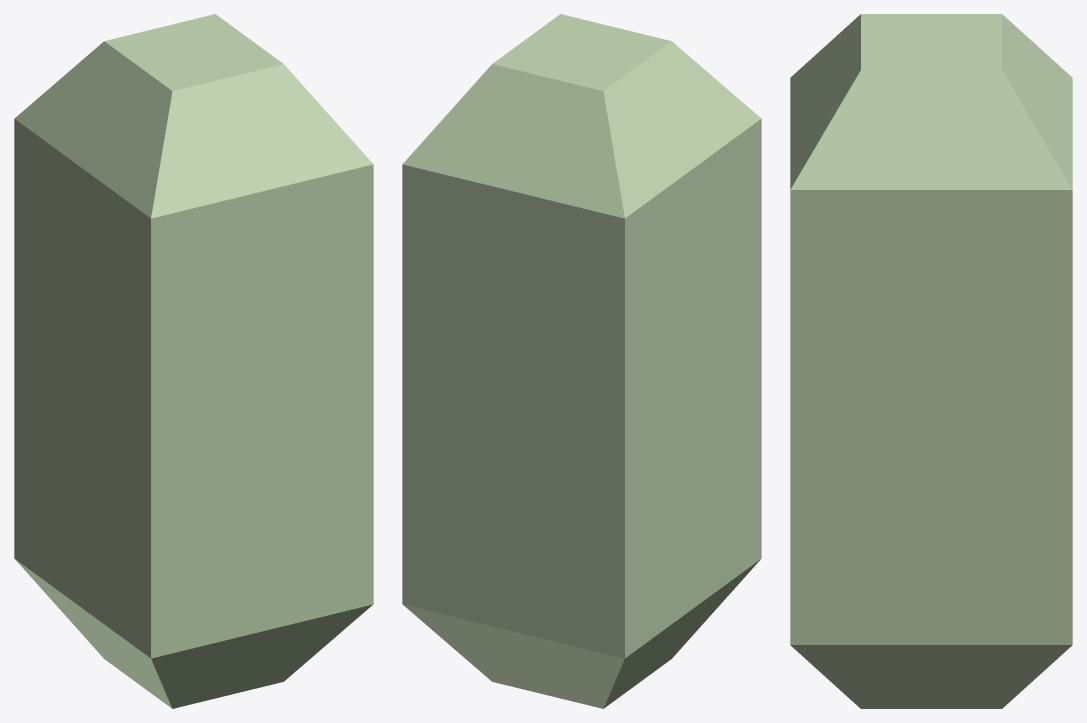
The model's file is SoldierMutant-UpperArm.fbx.
3 views of the same model, side by side, from view 1: azimuth 30°, elevation 25°; view 2: azimuth 150°, elevation 25°; view 3: azimuth 270°, elevation 25° (orthographic). The views are drawn at different scales.
Visible parts, largest first — view 1: SoldierMutantUpperArm; view 2: SoldierMutantUpperArm; view 3: SoldierMutantUpperArm.
Part boxes in pixels (left/top/right/bottom): SoldierMutantUpperArm: left=14, top=14, right=373, bottom=708; SoldierMutantUpperArm: left=402, top=14, right=761, bottom=708; SoldierMutantUpperArm: left=790, top=14, right=1072, bottom=708.
Size of the model in its own units: 0.1568 by 0.4161 by 0.1668.
